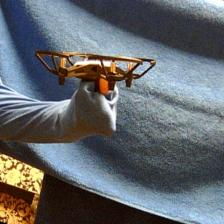drone: (36, 47, 158, 94)
